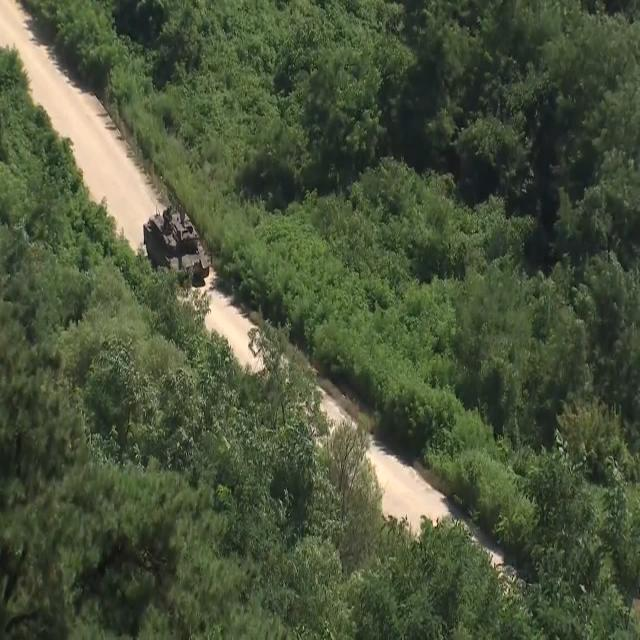korea tank: (141, 199, 211, 301)
